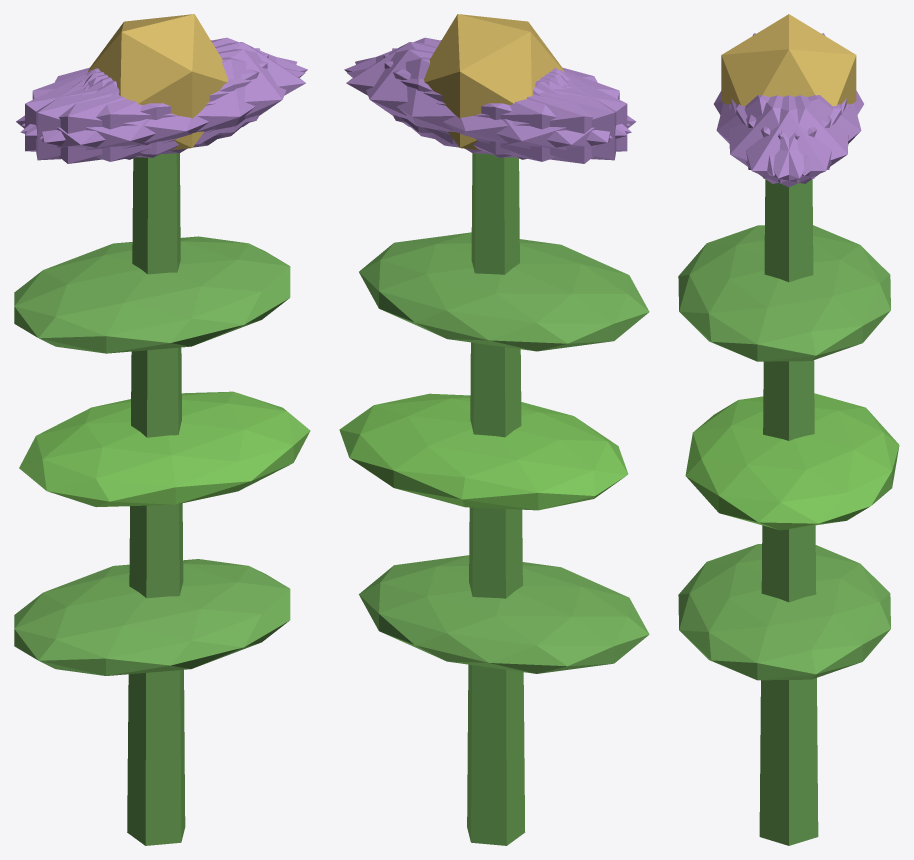
Rendered from sisymbrium-irio.glb.
The picture shows the model from 3 angles, left to right: view 1: azimuth 30°, elevation 25°; view 2: azimuth 150°, elevation 25°; view 3: azimuth 270°, elevation 25°; orthographic projection.
Parts seen in each view (by area): view 1: stem, leaf2, leaf0, leaf1, center, petal1, petal6, petal2, petal5, petal7, petal0, petal4 (+2 smaller); view 2: stem, leaf2, leaf1, leaf0, center, petal8, petal3, petal7, petal4, petal2, petal0, petal5 (+2 smaller); view 3: stem, leaf1, leaf2, leaf0, center, petal0, petal5, petal4, petal1, petal8.
Part boxes in pixels (<box>): stem: <box>127,153,185,845</box>; leaf2: <box>14,236,290,353</box>; leaf0: <box>14,559,290,675</box>; leaf1: <box>19,391,310,507</box>; center: <box>88,14,228,150</box>; petal1: <box>20,57,305,161</box>; petal6: <box>16,70,222,163</box>; petal2: <box>36,48,260,160</box>; petal5: <box>40,49,297,154</box>; petal7: <box>25,54,268,157</box>; petal0: <box>87,42,305,144</box>; petal4: <box>22,37,307,135</box>; stem: <box>467,153,525,845</box>; leaf2: <box>359,232,649,351</box>; leaf1: <box>339,393,628,510</box>; leaf0: <box>359,555,649,673</box>; center: <box>424,14,564,150</box>; petal8: <box>347,57,631,161</box>; petal3: <box>430,70,636,163</box>; petal7: <box>392,48,616,160</box>; petal4: <box>355,49,612,154</box>; petal2: <box>383,54,627,157</box>; petal0: <box>346,42,564,144</box>; petal5: <box>344,37,630,135</box>; stem: <box>759,179,818,845</box>; leaf1: <box>685,393,899,530</box>; leaf2: <box>678,225,890,361</box>; leaf0: <box>678,544,890,680</box>; center: <box>721,14,856,106</box>; petal0: <box>731,95,846,187</box>; petal5: <box>729,95,841,183</box>; petal4: <box>736,95,848,183</box>; petal1: <box>716,95,831,175</box>; petal8: <box>746,95,861,175</box>.
Bounding box in the file's own units: 0.1462 × 0.4012 × 0.1003.
